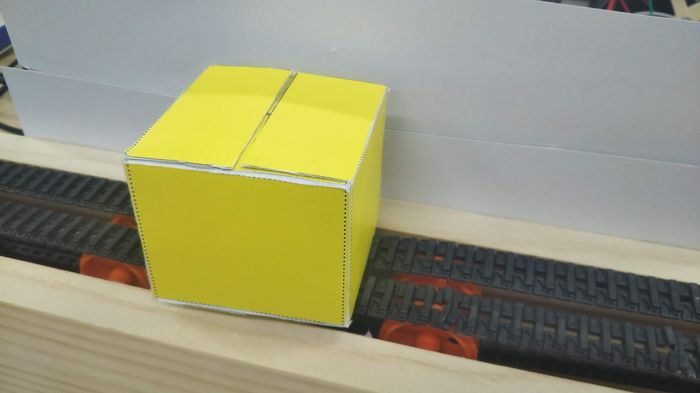box4: (117, 60, 390, 331)
